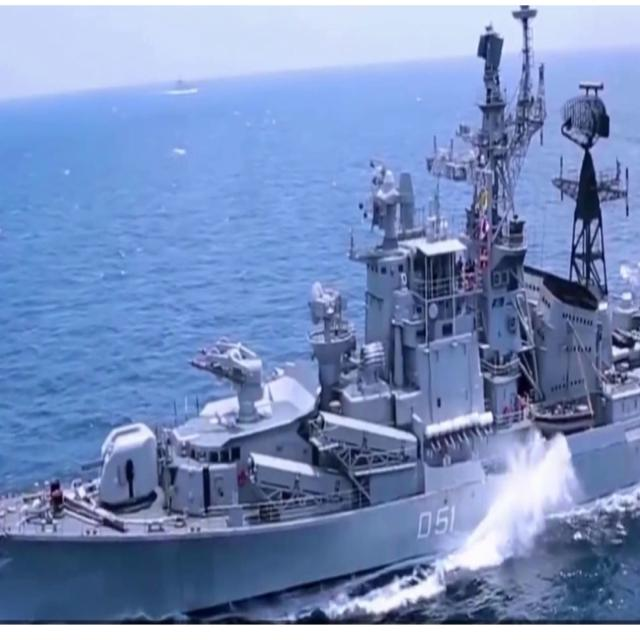OCR: (411, 497, 458, 548)
